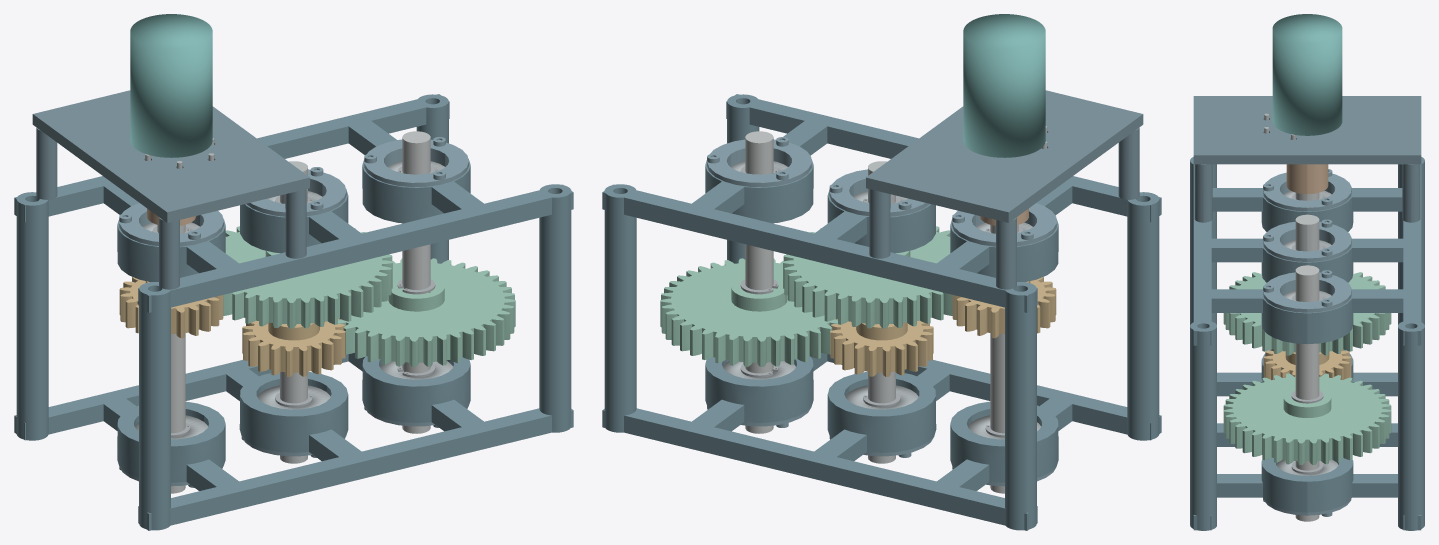
File: gearbox-public.glb
3 renders of one model, left to right at view 1: azimuth 30°, elevation 25°; view 2: azimuth 150°, elevation 25°; view 3: azimuth 270°, elevation 25°, orthographic. The views are drawn at different scales.
Parts seen in each view (by area): view 1: Frame, MotorBracket, WheelB, MotorBody_Generic, WheelA, PinionB, OutputShaft, Cover_OutputShaft_Upper, PinionA, Cover_InputShaft_Upper, InputShaft, Cover_MiddleShaft_Upper (+2 smaller); view 2: Frame, MotorBracket, WheelB, MotorBody_Generic, WheelA, PinionB, OutputShaft, Cover_OutputShaft_Upper, PinionA, Cover_InputShaft_Upper, InputShaft, Cover_MiddleShaft_Upper (+2 smaller); view 3: Frame, MotorBracket, WheelB, MotorBody_Generic, WheelA, OutputShaft, Cover_OutputShaft_Upper, Cover_MiddleShaft_Upper, Cover_InputShaft_Upper, PinionB, StepCoupling6to12, MiddleShaft (+2 smaller).
Boxes of the visible parts, x1=… form: Frame: x1=14, y1=94, x2=573, y2=530; MotorBracket: x1=32, y1=90, x2=309, y2=289; WheelB: x1=338, y1=258, x2=515, y2=366; MotorBody_Generic: x1=130, y1=14, x2=212, y2=157; WheelA: x1=223, y1=226, x2=392, y2=328; PinionB: x1=242, y1=319, x2=345, y2=376; OutputShaft: x1=402, y1=131, x2=430, y2=433; Cover_OutputShaft_Upper: x1=364, y1=139, x2=468, y2=186; PinionA: x1=119, y1=276, x2=223, y2=338; Cover_InputShaft_Upper: x1=119, y1=203, x2=223, y2=246; InputShaft: x1=157, y1=225, x2=185, y2=493; Cover_MiddleShaft_Upper: x1=246, y1=169, x2=346, y2=216; Frame: x1=602, y1=94, x2=1161, y2=530; MotorBracket: x1=866, y1=90, x2=1143, y2=289; WheelB: x1=660, y1=258, x2=837, y2=366; MotorBody_Generic: x1=963, y1=14, x2=1045, y2=157; WheelA: x1=783, y1=226, x2=952, y2=328; PinionB: x1=830, y1=319, x2=933, y2=376; OutputShaft: x1=745, y1=131, x2=773, y2=433; Cover_OutputShaft_Upper: x1=707, y1=139, x2=811, y2=186; PinionA: x1=952, y1=276, x2=1056, y2=338; Cover_InputShaft_Upper: x1=952, y1=203, x2=1056, y2=246; InputShaft: x1=990, y1=225, x2=1018, y2=493; Cover_MiddleShaft_Upper: x1=829, y1=169, x2=929, y2=216; Frame: x1=1190, y1=157, x2=1424, y2=530; MotorBracket: x1=1193, y1=96, x2=1421, y2=222; WheelB: x1=1223, y1=373, x2=1391, y2=464; MotorBody_Generic: x1=1272, y1=14, x2=1342, y2=135; WheelA: x1=1223, y1=272, x2=1391, y2=355; OutputShaft: x1=1295, y1=265, x2=1319, y2=521; Cover_OutputShaft_Upper: x1=1263, y1=272, x2=1351, y2=312; Cover_MiddleShaft_Upper: x1=1263, y1=221, x2=1351, y2=261; Cover_InputShaft_Upper: x1=1263, y1=172, x2=1351, y2=211; PinionB: x1=1263, y1=349, x2=1351, y2=379; StepCoupling6to12: x1=1286, y1=164, x2=1328, y2=194; MiddleShaft: x1=1295, y1=214, x2=1319, y2=251.
Bounding box in the file's own units: 0.2096 × 0.2135 × 0.1176.
